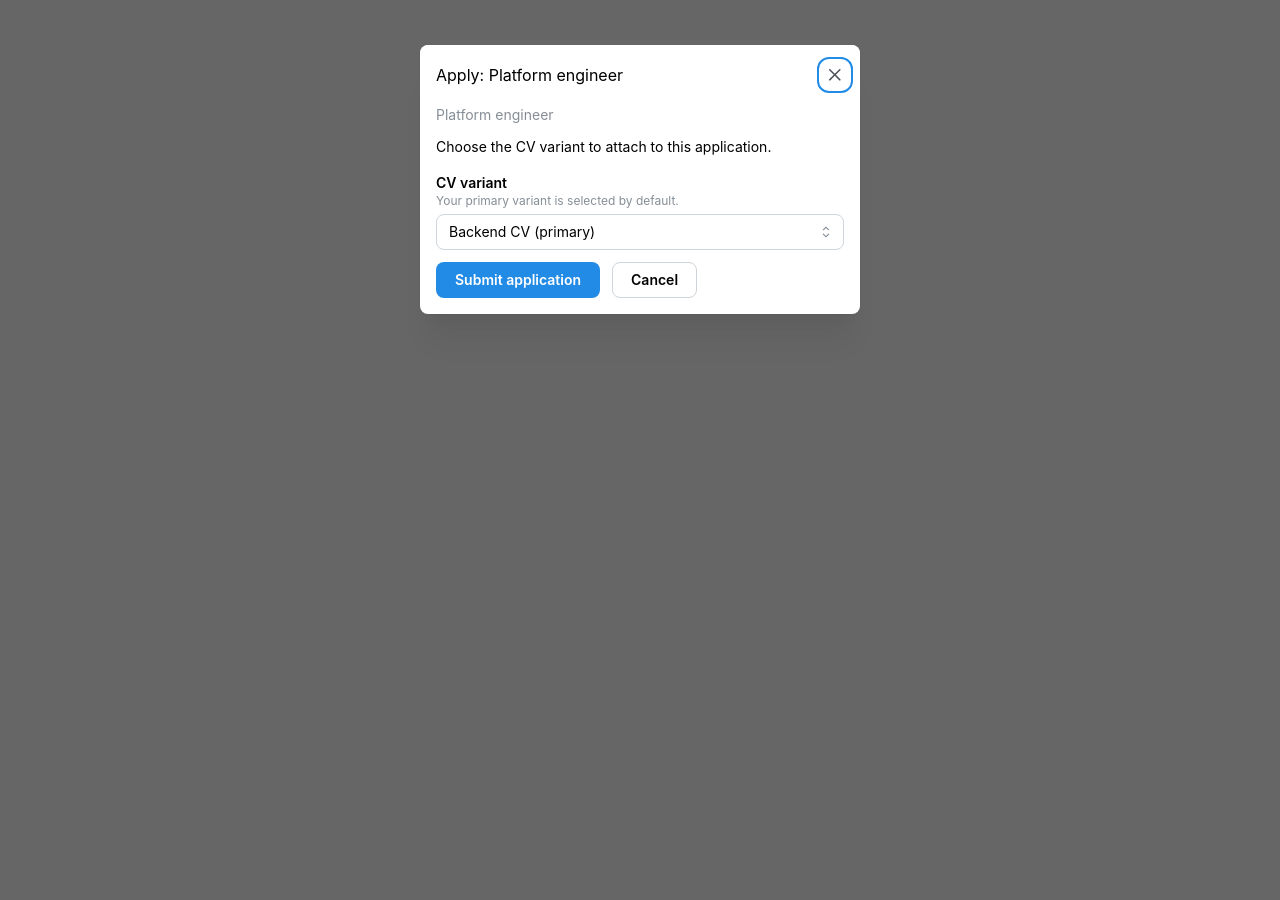
a conflicting_state refusal (Req 14 AC7) › states that an application for this job description already exists
This screenshot has width=1280, height=900.
Expected: the dropdown with test id "apply-variant-select" is shown, [436, 214, 844, 250]
Click the button with test id "apply-submit".
click(518, 280)  # box [436, 262, 600, 298]
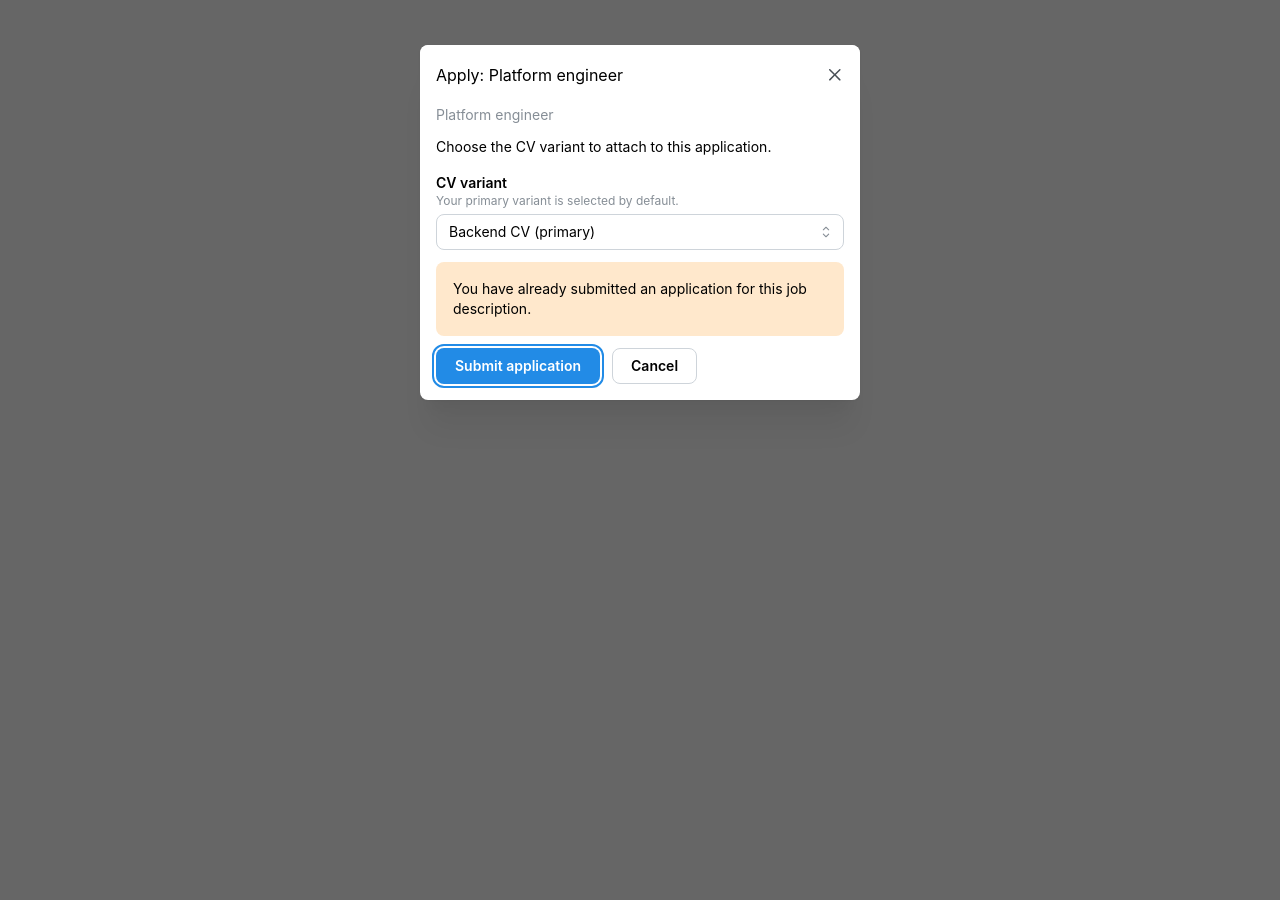
Expected: the message with test id "apply-conflicting-state" reads "You have already submitted an application for this job description.", [453, 280, 807, 317]
